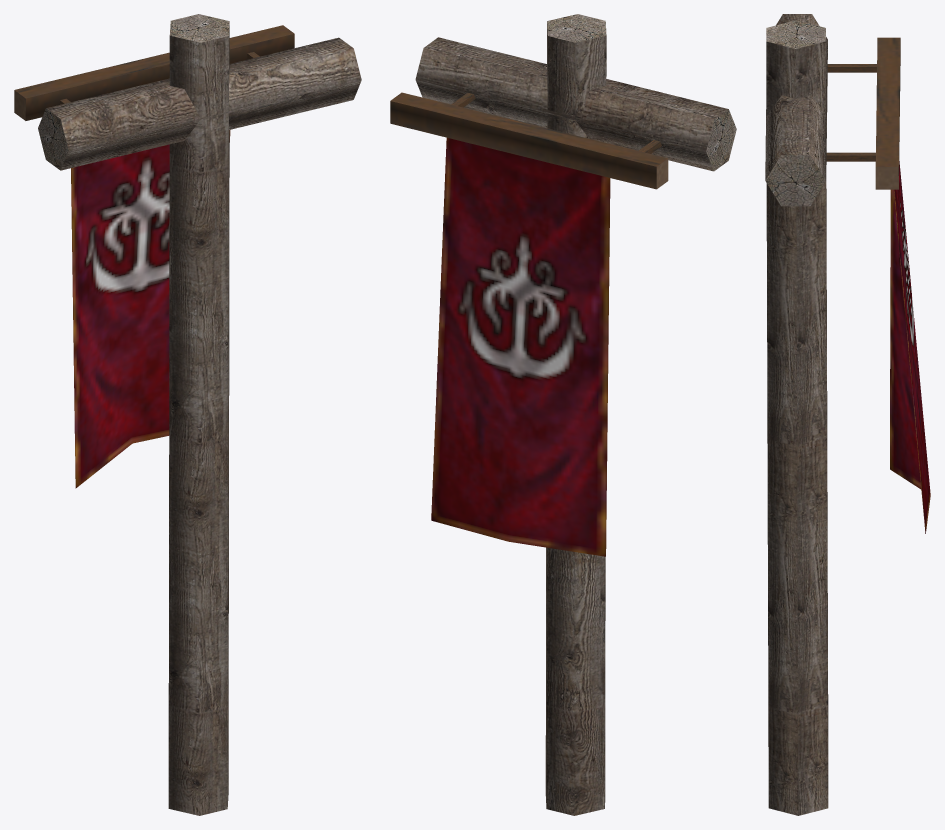
Rendered from d_sg_shouyou_qizi01_qt.FBX.
The picture shows the model from 3 angles, left to right: view 1: azimuth 30°, elevation 25°; view 2: azimuth 150°, elevation 25°; view 3: azimuth 270°, elevation 25°; orthographic projection.
Parts seen in each view (by area): view 1: d_sg_shouyou_louti01_qt; view 2: d_sg_shouyou_louti01_qt; view 3: d_sg_shouyou_louti01_qt.
Part boxes in pixels (bbox=[...]): d_sg_shouyou_louti01_qt: bbox=[14, 14, 361, 815]; d_sg_shouyou_louti01_qt: bbox=[390, 14, 736, 815]; d_sg_shouyou_louti01_qt: bbox=[765, 14, 930, 815].
Size of the model in its own units: 95.6 by 242 by 47.33.
